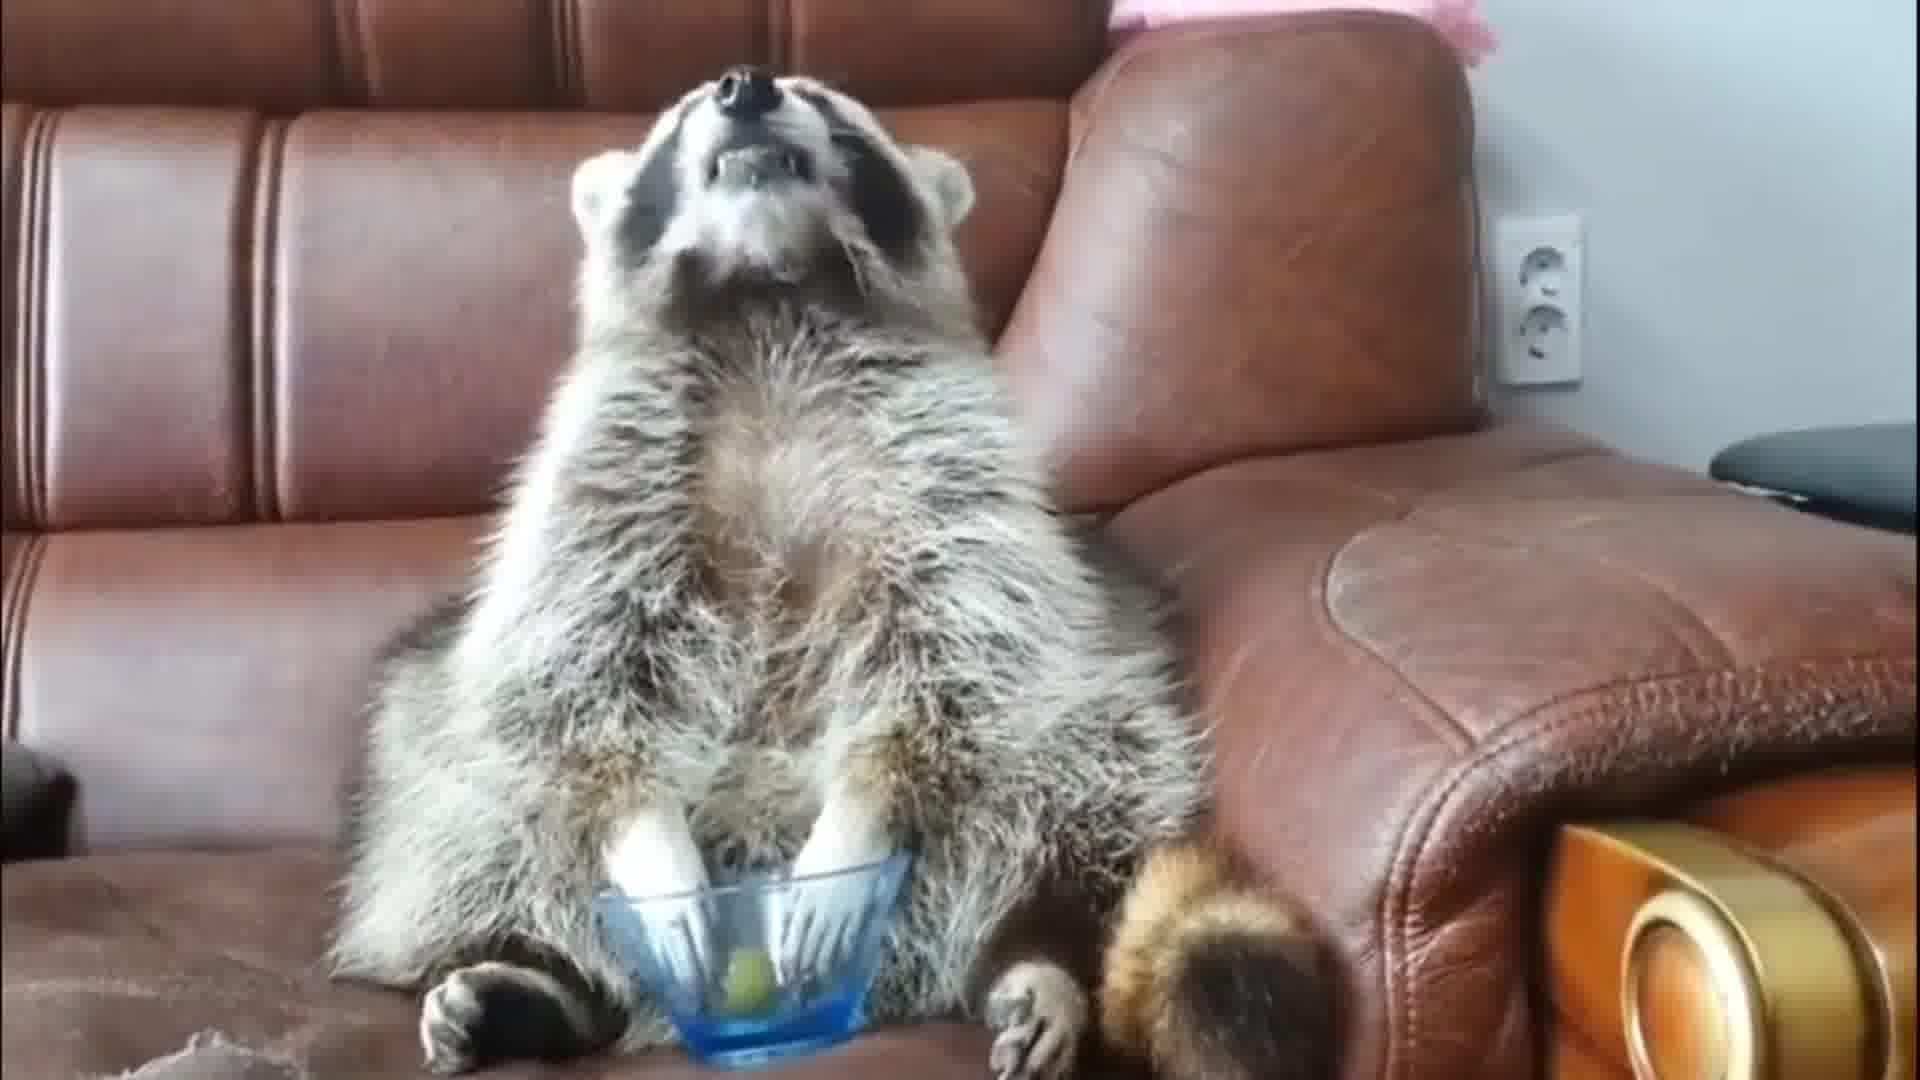raccoon: (338, 63, 1340, 1080)
